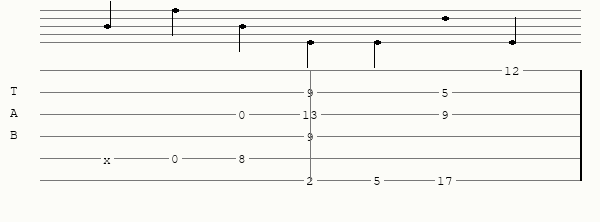0: (171, 152, 183, 164), (238, 108, 250, 120)
12: (504, 64, 524, 76)
13: (302, 108, 322, 120)
17: (437, 174, 457, 186)
2: (306, 174, 318, 186)
5: (373, 174, 385, 186), (441, 86, 453, 98)
8: (238, 152, 250, 164)
9: (306, 86, 318, 98), (306, 130, 318, 142), (441, 108, 453, 120)
x: (103, 153, 115, 163)
